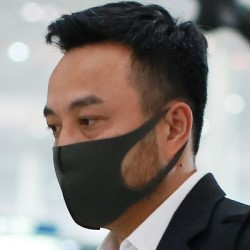mask: (36, 91, 181, 232)
